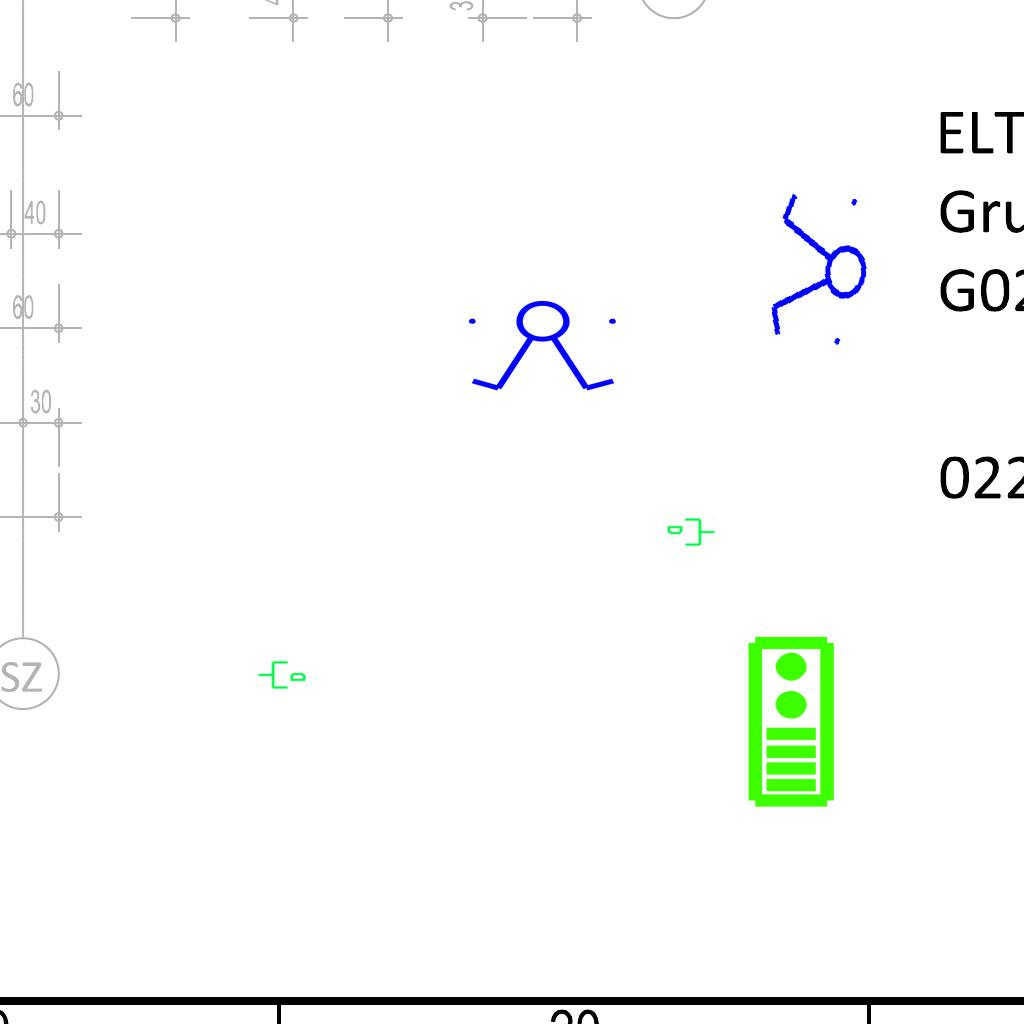Datenanschluss_einfach: (257, 657, 307, 691), (666, 516, 716, 550)
Gegensprechanlage_mit_Video: (742, 633, 837, 809)
Serienschalter: (762, 180, 878, 360), (460, 299, 628, 395)
